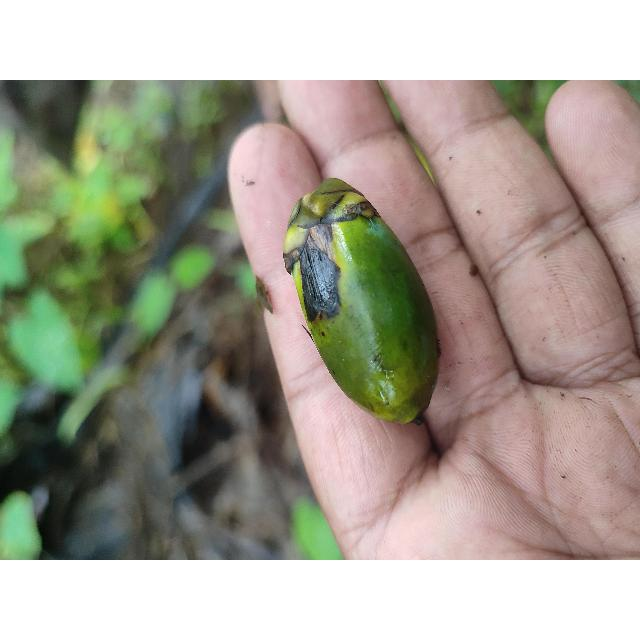damaged: (282, 178, 441, 426)
